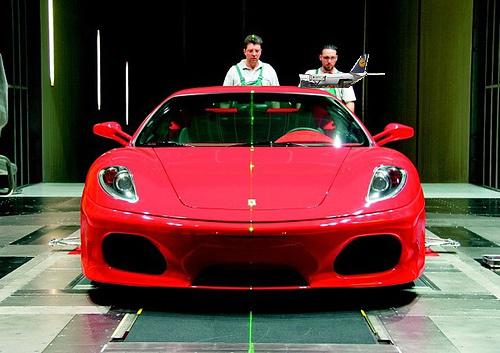tampered: (300, 55, 385, 88)
